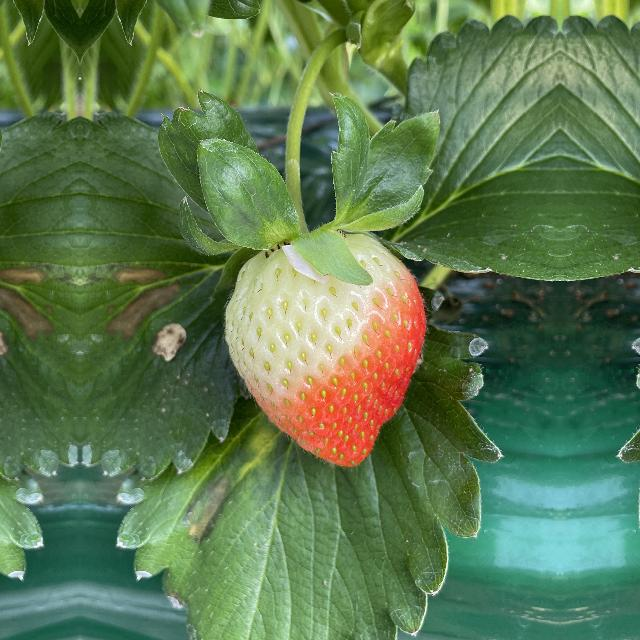Health_75: (218, 224, 430, 478)
